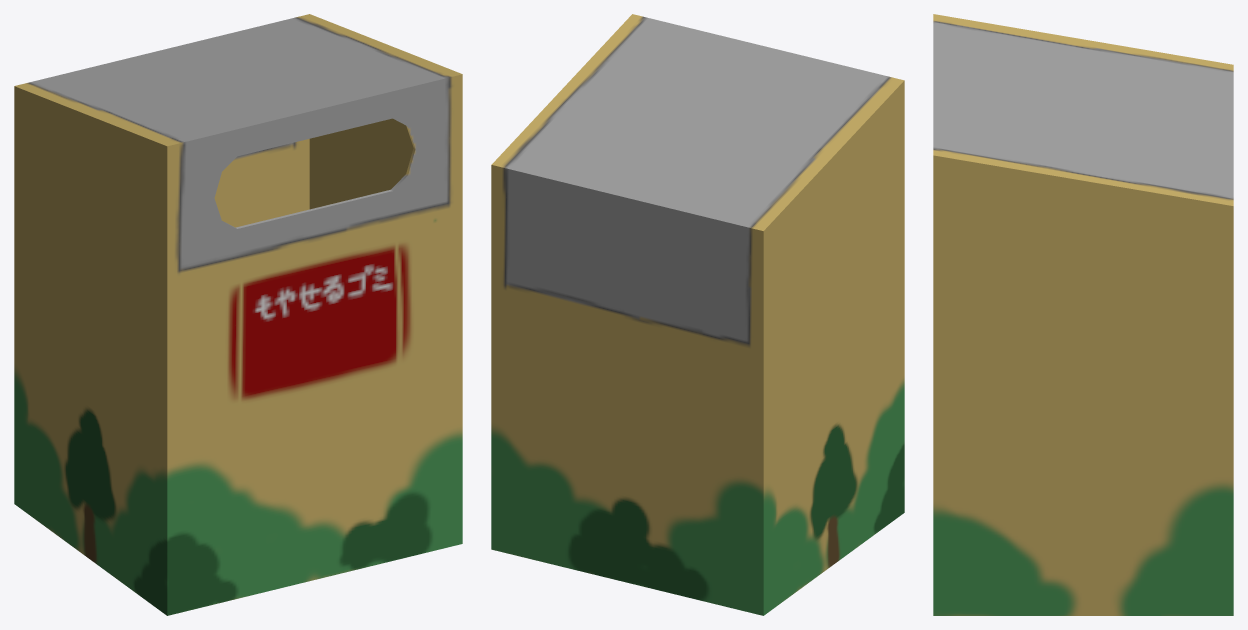
Rendered from TrashBox002.fbx.
3 renders of one model, left to right at view 1: azimuth 30°, elevation 25°; view 2: azimuth 150°, elevation 25°; view 3: azimuth 270°, elevation 25°, orthographic. The views are drawn at different scales.
Parts seen in each view (by area): view 1: trashbox2; view 2: trashbox2; view 3: trashbox2.
Boxes of the visible parts, x1,y1,x2,y2 form: trashbox2: (14, 14, 462, 615); trashbox2: (491, 14, 904, 615); trashbox2: (933, 14, 1233, 615).
Size of the model in its own units: 0.0371 by 0.0563 by 0.0332.
Materials: 1 (1 with a texture image).
